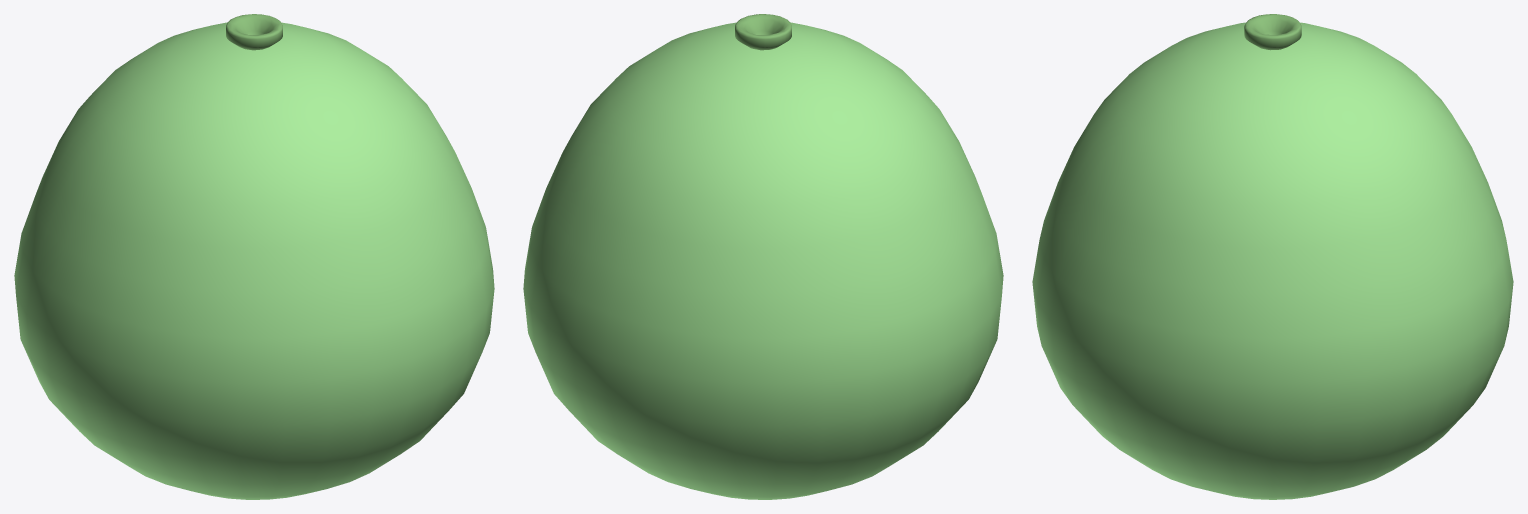
File: Water Balloon.fbx
3 renders of one model, left to right at view 1: azimuth 30°, elevation 25°; view 2: azimuth 150°, elevation 25°; view 3: azimuth 270°, elevation 25°, orthographic.
Visible parts, largest first — view 1: Sphere, Sphere.001; view 2: Sphere, Sphere.001; view 3: Sphere, Sphere.001.
Part boxes in pixels (x1,y1,x2,y2): Sphere: (14,22,494,499); Sphere.001: (226,14,282,50); Sphere: (523,22,1003,499); Sphere.001: (735,14,791,50); Sphere: (1032,22,1513,499); Sphere.001: (1244,14,1301,50).
Size of the model in its own units: 52.68 by 54.43 by 52.68.
